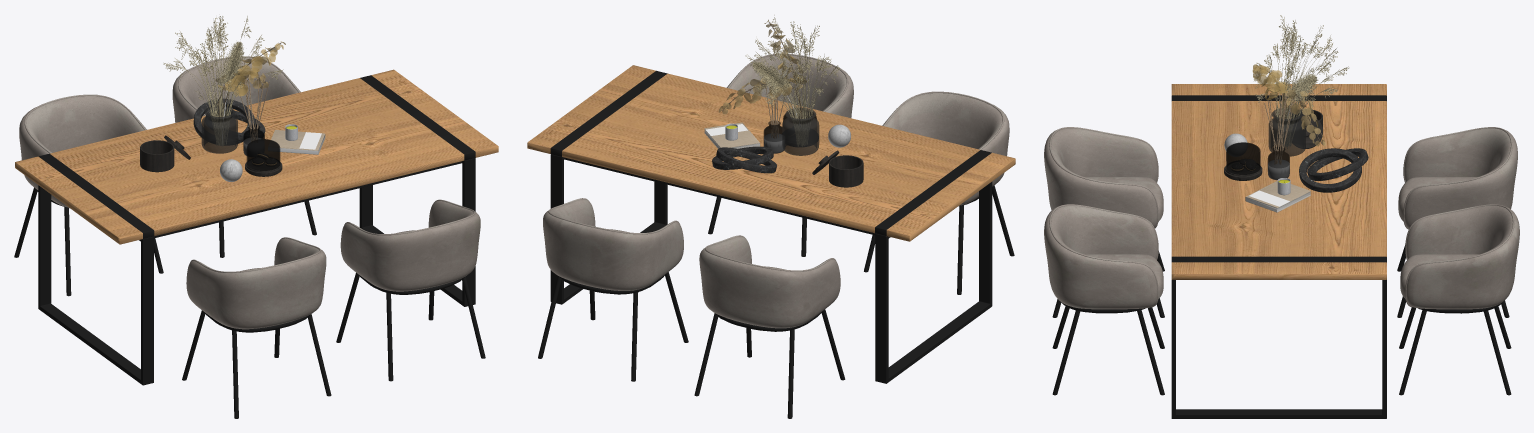
File: dining_table_1.glb
3 renders of one model, left to right at view 1: azimuth 30°, elevation 25°; view 2: azimuth 150°, elevation 25°; view 3: azimuth 270°, elevation 25°, orthographic. The views are drawn at different scales.
Visible parts, largest first — view 1: Chair-Table_Set_41, Cube009_26, Cube012_8, Cube001_14, flowers_36, Cube006_20, vase_37, Circle005_6, Circle004_24, cupe_30, decor_31, Circle002_12 (+3 smaller); view 2: Chair-Table_Set_41, Cube001_14, Cube006_20, Cube009_26, flowers_36, Cube012_8, vase_37, Circle002_12, Circle003_18, decor_31, cupe_30, Circle004_24 (+2 smaller); view 3: Chair-Table_Set_41, Cube012_8, Cube006_20, Cube001_14, Cube009_26, flowers_36, decor_31, Circle005_6, Circle003_18, vase_37, book_4, glass_dec_34 (+11 smaller).
Boxes of the visible parts, box(x1,y1,x2,y2) form: Chair-Table_Set_41: box(15, 69, 498, 385); Cube009_26: box(186, 238, 326, 329); Cube012_8: box(340, 201, 480, 291); Cube001_14: box(19, 96, 146, 207); flowers_36: box(163, 16, 285, 145); Cube006_20: box(172, 57, 300, 122); vase_37: box(201, 106, 237, 153); Circle005_6: box(336, 272, 485, 381); Circle004_24: box(182, 310, 331, 418); cupe_30: box(140, 135, 190, 172); decor_31: box(193, 98, 265, 145); Circle002_12: box(14, 187, 163, 296); Chair-Table_Set_41: box(527, 65, 1015, 383); Cube001_14: box(699, 236, 840, 328); Cube006_20: box(543, 199, 683, 290); Cube009_26: box(882, 93, 1009, 205); flowers_36: box(718, 15, 839, 146); Cube012_8: box(726, 55, 853, 117); vase_37: box(782, 107, 819, 155); Circle002_12: box(694, 309, 845, 418); Circle003_18: box(538, 272, 688, 381); decor_31: box(712, 146, 776, 173); cupe_30: box(812, 150, 863, 187); Circle004_24: box(864, 185, 1014, 294); Chair-Table_Set_41: box(1171, 84, 1386, 418); Cube012_8: box(1044, 205, 1157, 309); Cube006_20: box(1406, 205, 1519, 309); Cube001_14: box(1404, 128, 1517, 228); Cube009_26: box(1044, 128, 1157, 227); flowers_36: box(1252, 15, 1349, 148); decor_31: box(1299, 148, 1368, 192); Circle005_6: box(1052, 306, 1164, 395); Circle003_18: box(1399, 306, 1511, 395); vase_37: box(1268, 108, 1305, 156); book_4: box(1245, 181, 1310, 212); glass_dec_34: box(1226, 142, 1260, 174).
Bounding box in the file's own units: 1.92 × 1.42 × 2.03.
29 materials, 17 textured.
